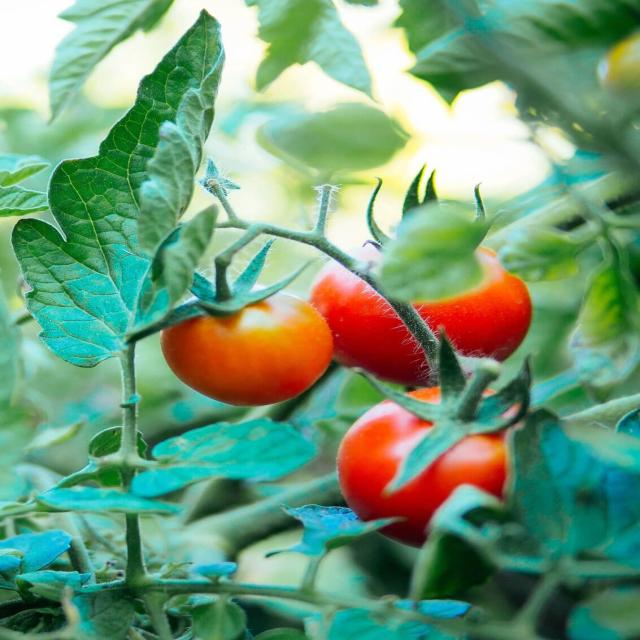level 5: (166, 286, 326, 408)
level 6: (340, 384, 558, 548), (317, 239, 529, 391)
